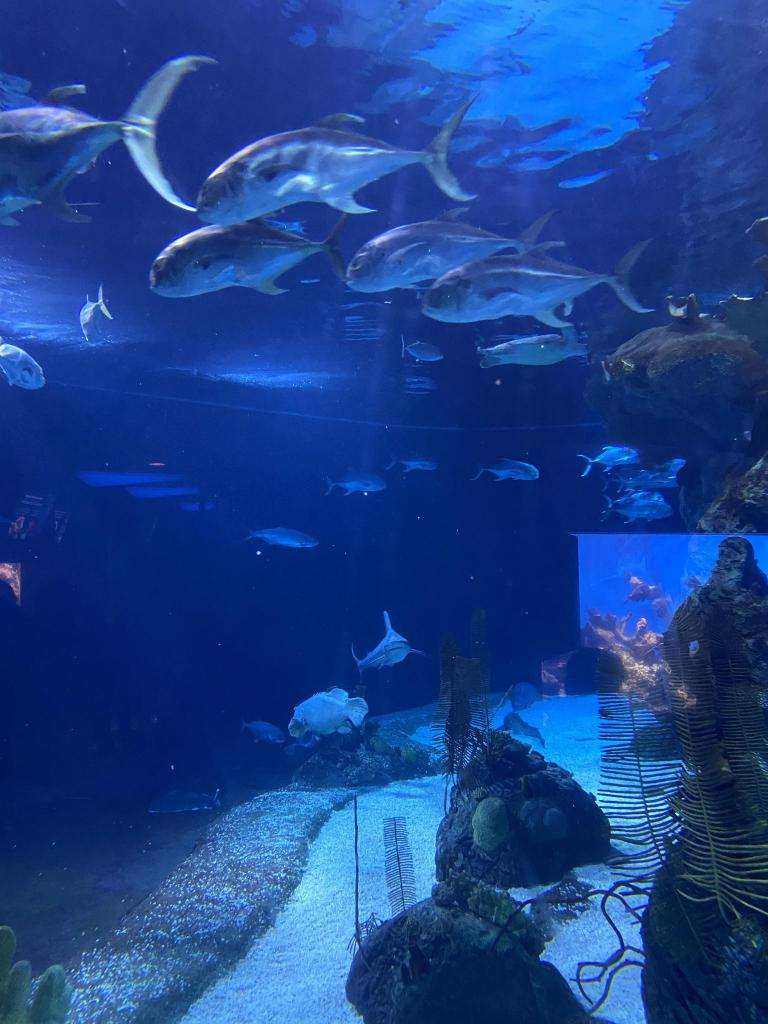fish: (0, 52, 198, 214), (195, 115, 473, 223), (432, 234, 648, 322), (144, 220, 342, 308), (348, 212, 554, 286), (0, 334, 51, 396), (602, 490, 680, 526), (467, 447, 544, 481), (78, 290, 120, 350), (578, 440, 638, 474), (250, 524, 322, 552), (329, 464, 383, 498), (398, 336, 444, 364), (400, 446, 438, 476)
shark: (349, 613, 427, 677)
